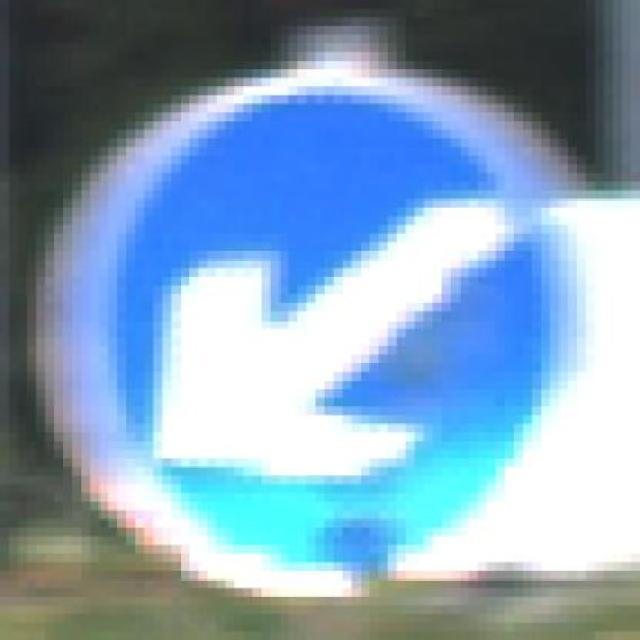Keep-Left: (54, 34, 614, 606)
